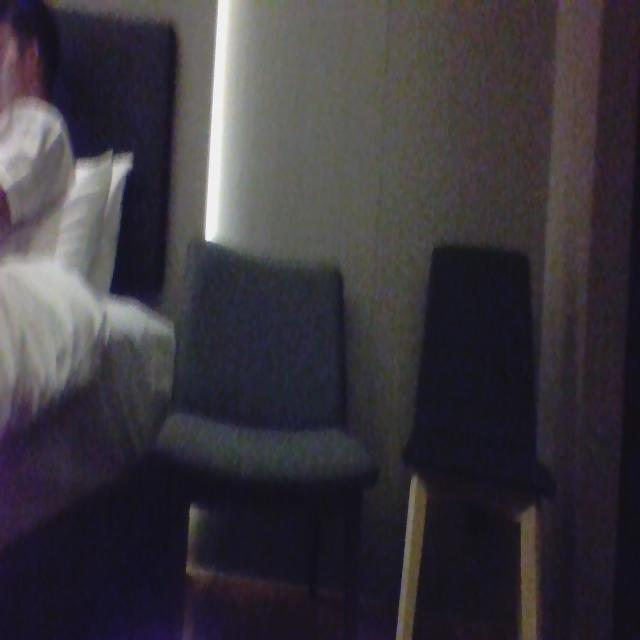empty: (182, 237, 356, 445), (412, 226, 542, 459)
